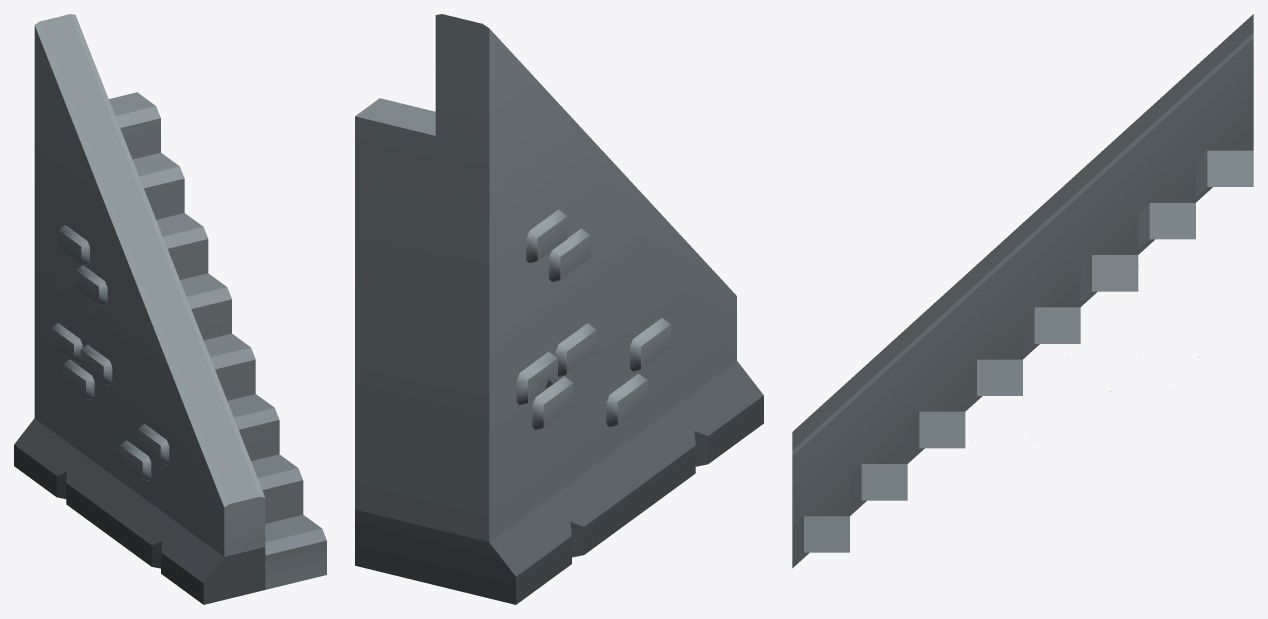
The model's file is stairs_modular_left.glb.
The picture shows the model from 3 angles, left to right: view 1: azimuth 30°, elevation 25°; view 2: azimuth 150°, elevation 25°; view 3: azimuth 270°, elevation 25°; orthographic projection. The views are drawn at different scales.
Visible parts, largest first — view 1: stairs_modular_left; view 2: stairs_modular_left; view 3: stairs_modular_left.
Part boxes in pixels (left/top/right/bottom): stairs_modular_left: left=14, top=14, right=326, bottom=604; stairs_modular_left: left=355, top=14, right=763, bottom=604; stairs_modular_left: left=792, top=14, right=1253, bottom=568.
Size of the model in its own units: 1.5 by 5.1 by 4.
1 material, 1 textured.
